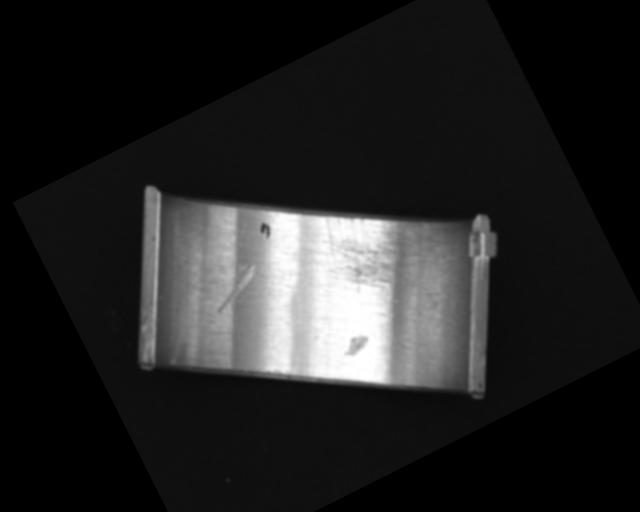blot: (256, 219, 275, 241)
bruise: (339, 330, 373, 359)
nick: (226, 205, 284, 286), (205, 261, 267, 313)
scratch: (304, 178, 442, 313)
